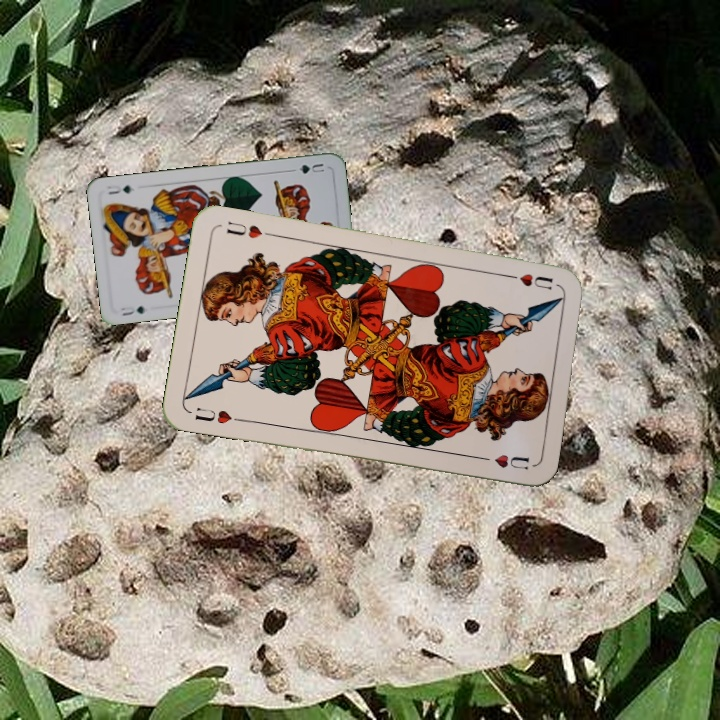GU: (295, 159, 328, 176), (117, 302, 148, 319)
HU: (191, 403, 245, 427), (515, 269, 556, 293)
